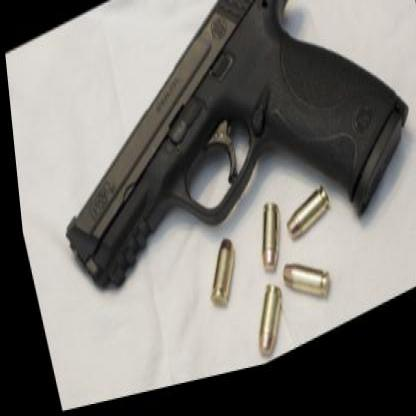pistol: (18, 0, 415, 366)
